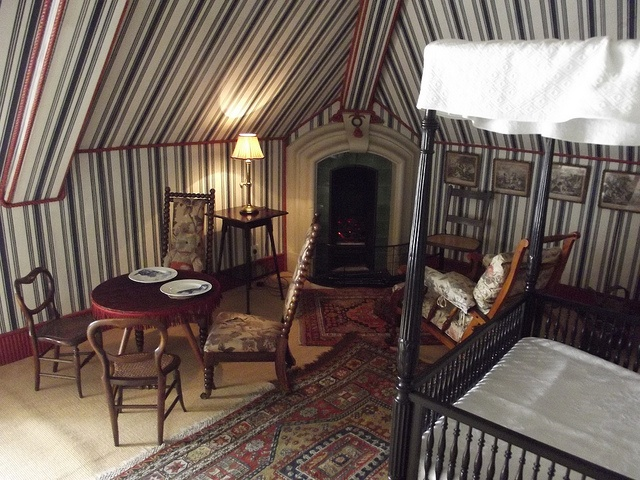chair: (199, 214, 516, 480), (160, 184, 377, 457), (16, 265, 109, 480)
